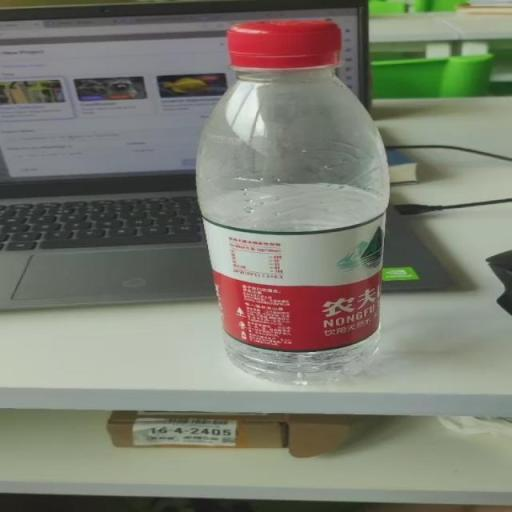plastic: (196, 19, 391, 388)
